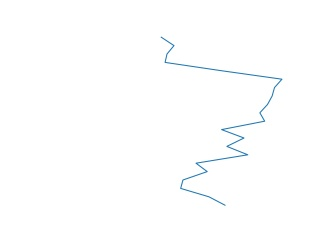floodPlain: (158, 34, 287, 208)
